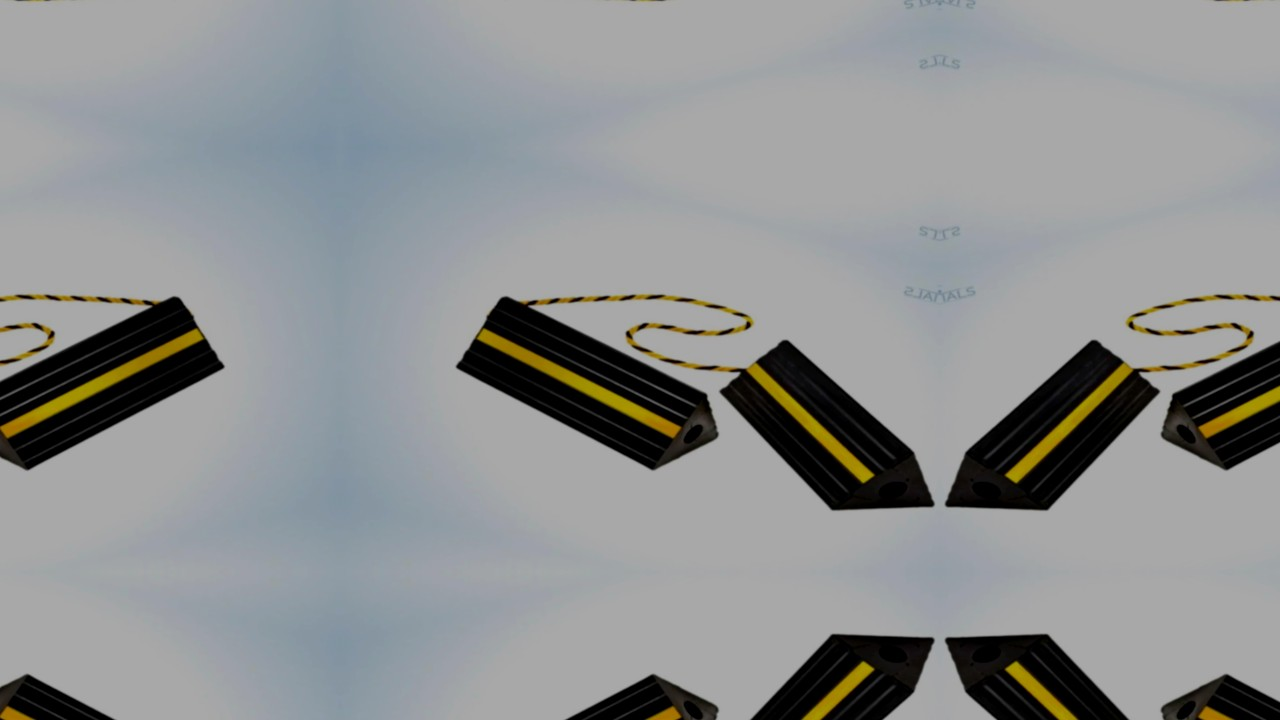chock: (442, 284, 738, 485), (696, 322, 940, 537), (940, 322, 1184, 537), (0, 284, 238, 485), (1142, 284, 1280, 485), (696, 608, 940, 720), (940, 608, 1184, 720), (442, 660, 738, 720), (0, 660, 238, 720), (1142, 660, 1280, 720)
